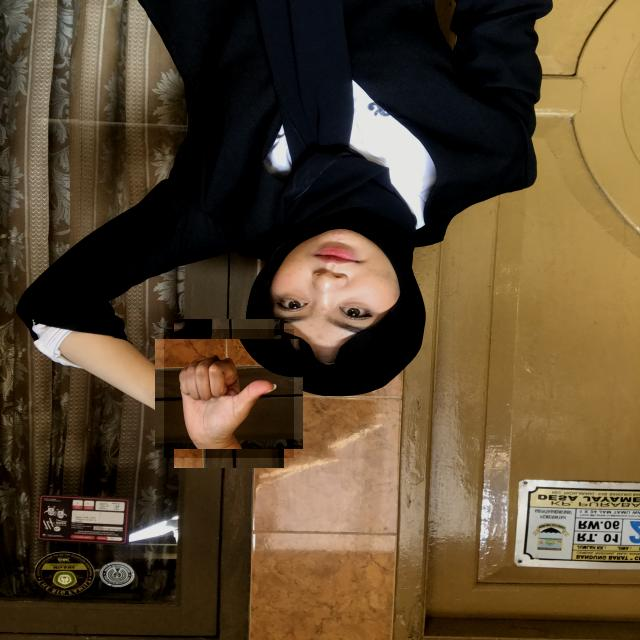sedih: (164, 329, 294, 458)
